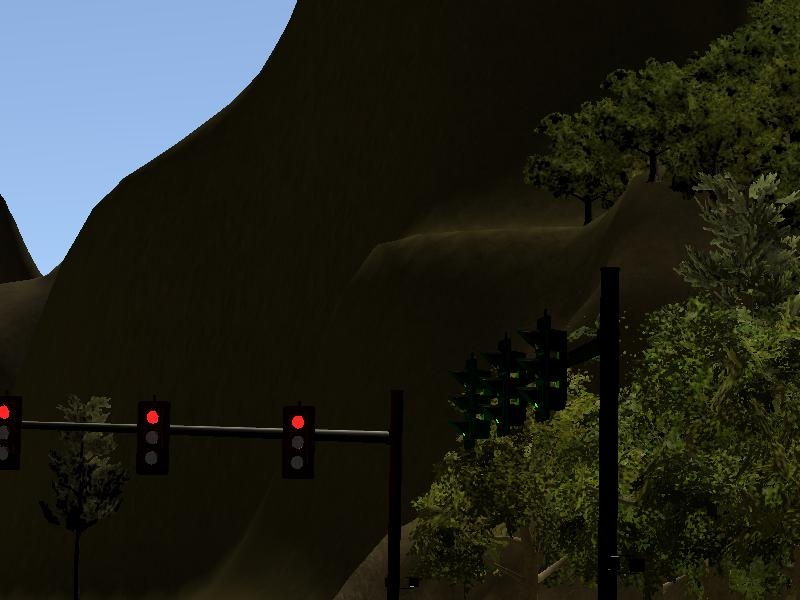RED: (136, 402, 170, 480), (281, 405, 315, 483)
